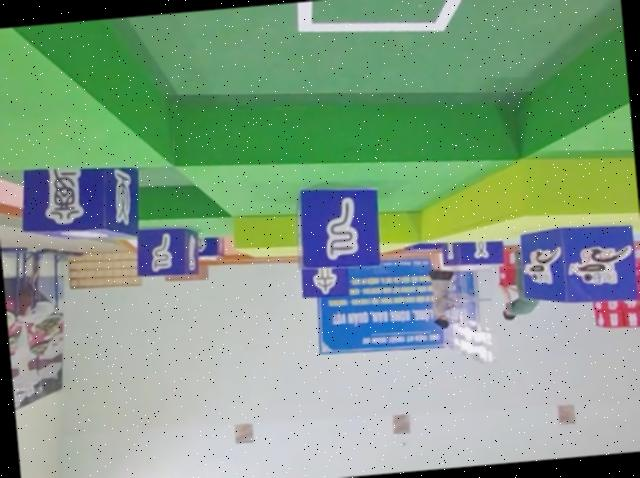R1 Blue: (518, 216, 640, 306)
R2 Fake Blue: (14, 158, 142, 246), (290, 178, 382, 270), (130, 219, 197, 275), (297, 260, 348, 297)
R2 Real Blue: (438, 236, 501, 268)
